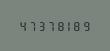eight: (53, 20, 61, 31), (71, 20, 79, 31)
four: (17, 20, 25, 31)
nine: (80, 20, 88, 31)
one: (62, 20, 70, 31)
seven: (26, 20, 34, 31), (44, 20, 52, 31)
three: (35, 20, 43, 31)
